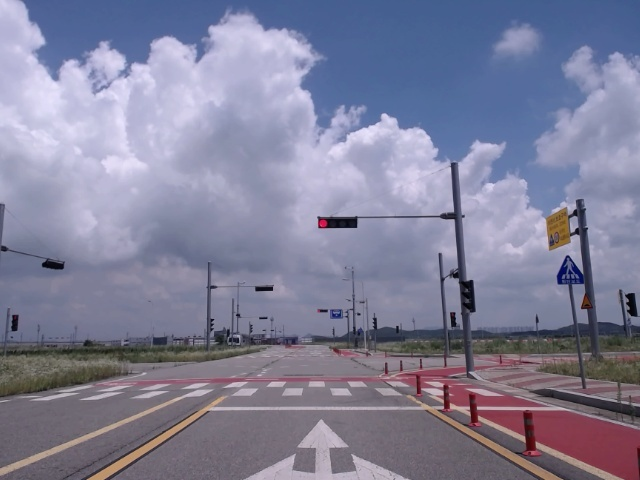red_4: (318, 217, 357, 228)
